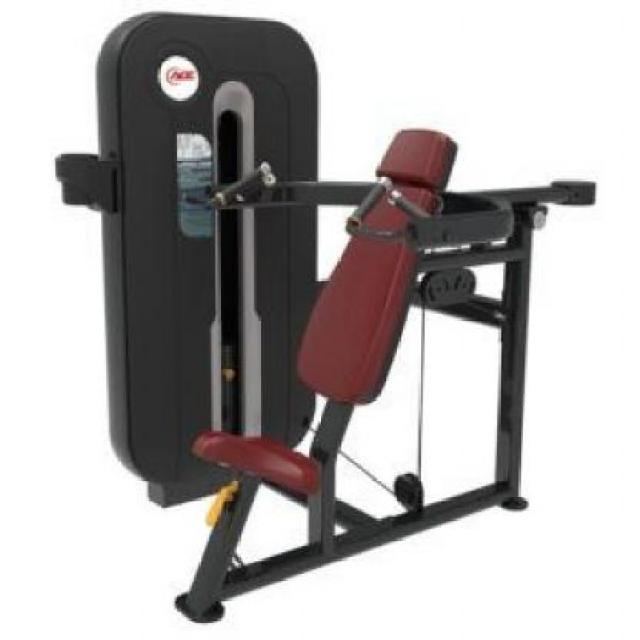shoulder press machine: (44, 4, 614, 624)
